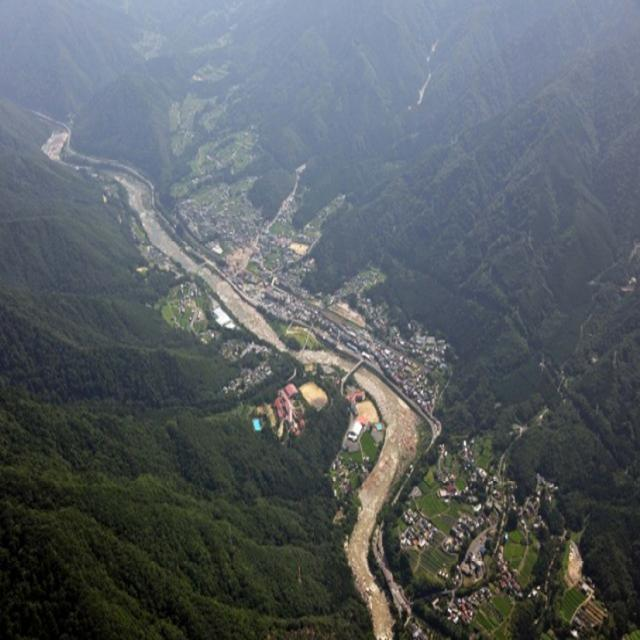Debris-flow: (301, 350, 420, 639), (102, 165, 286, 351), (42, 127, 70, 162), (565, 542, 582, 585)
